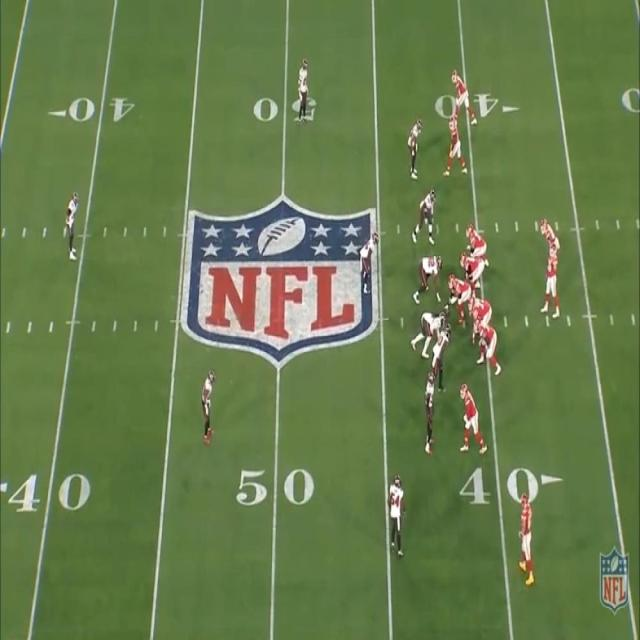center: (441, 273, 472, 316)
db: (422, 374, 436, 448), (408, 118, 422, 176), (66, 192, 78, 257), (203, 370, 214, 440), (298, 60, 308, 122)
lb: (386, 476, 404, 551), (363, 234, 376, 278)
qb: (546, 242, 558, 308)
skill: (461, 384, 485, 451), (453, 65, 476, 131), (520, 496, 536, 575), (447, 116, 463, 174), (540, 215, 554, 238)
